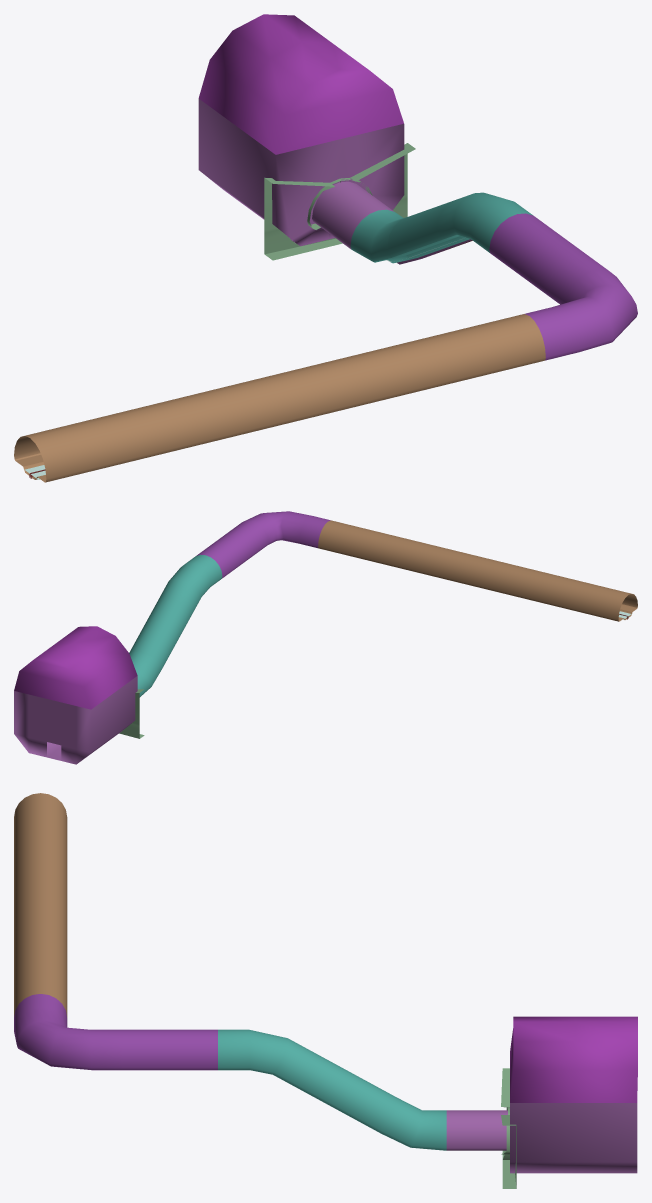
The model's file is cloacas.fbx.
3 renders of one model, top to bottom at view 1: azimuth 30°, elevation 25°; view 2: azimuth 150°, elevation 25°; view 3: azimuth 270°, elevation 25°, orthographic. The views are drawn at different scales.
Visible parts, largest first — view 1: polySurface13, Techo, polySurface1, polySurface11, polySurface7, TapaPuerta, polySurface9, polySurface5, polySurface3; view 2: polySurface13, Techo, polySurface1, polySurface11, polySurface5, polySurface7, polySurface9, polySurface3, TapaPuerta; view 3: polySurface1, Techo, polySurface13, polySurface11, polySurface7, polySurface5, polySurface9, polySurface3, TapaPuerta.
Part boxes in pixels (left/top/right/bottom): polySurface13: left=14, top=314, right=545, bottom=482; Techo: left=198, top=14, right=403, bottom=154; polySurface1: left=198, top=99, right=404, bottom=248; polySurface11: left=523, top=241, right=637, bottom=360; polySurface7: left=437, top=192, right=532, bottom=252; TapaPuerta: left=264, top=143, right=415, bottom=260; polySurface9: left=489, top=213, right=571, bottom=280; polySurface5: left=387, top=199, right=465, bottom=259; polySurface3: left=350, top=209, right=410, bottom=263; polySurface13: left=318, top=520, right=637, bottom=621; Techo: left=14, top=626, right=137, bottom=709; polySurface1: left=14, top=676, right=137, bottom=764; polySurface11: left=219, top=511, right=330, bottom=561; polySurface5: left=129, top=597, right=191, bottom=668; polySurface7: left=159, top=554, right=222, bottom=613; polySurface9: left=196, top=538, right=245, bottom=578; polySurface3: left=129, top=651, right=161, bottom=697; TapaPuerta: left=119, top=689, right=144, bottom=738; polySurface1: left=446, top=1103, right=637, bottom=1173; Techo: left=510, top=1016, right=637, bottom=1102; polySurface13: left=14, top=793, right=67, bottom=1017; polySurface11: left=14, top=994, right=154, bottom=1070; polySurface7: left=218, top=1029, right=315, bottom=1089; polySurface5: left=300, top=1053, right=396, bottom=1133; polySurface9: left=154, top=1029, right=217, bottom=1070; polySurface3: left=381, top=1097, right=446, bottom=1150; TapaPuerta: left=501, top=1068, right=516, bottom=1188.
Bounding box in the file's own units: 128 × 30.95 × 126.
